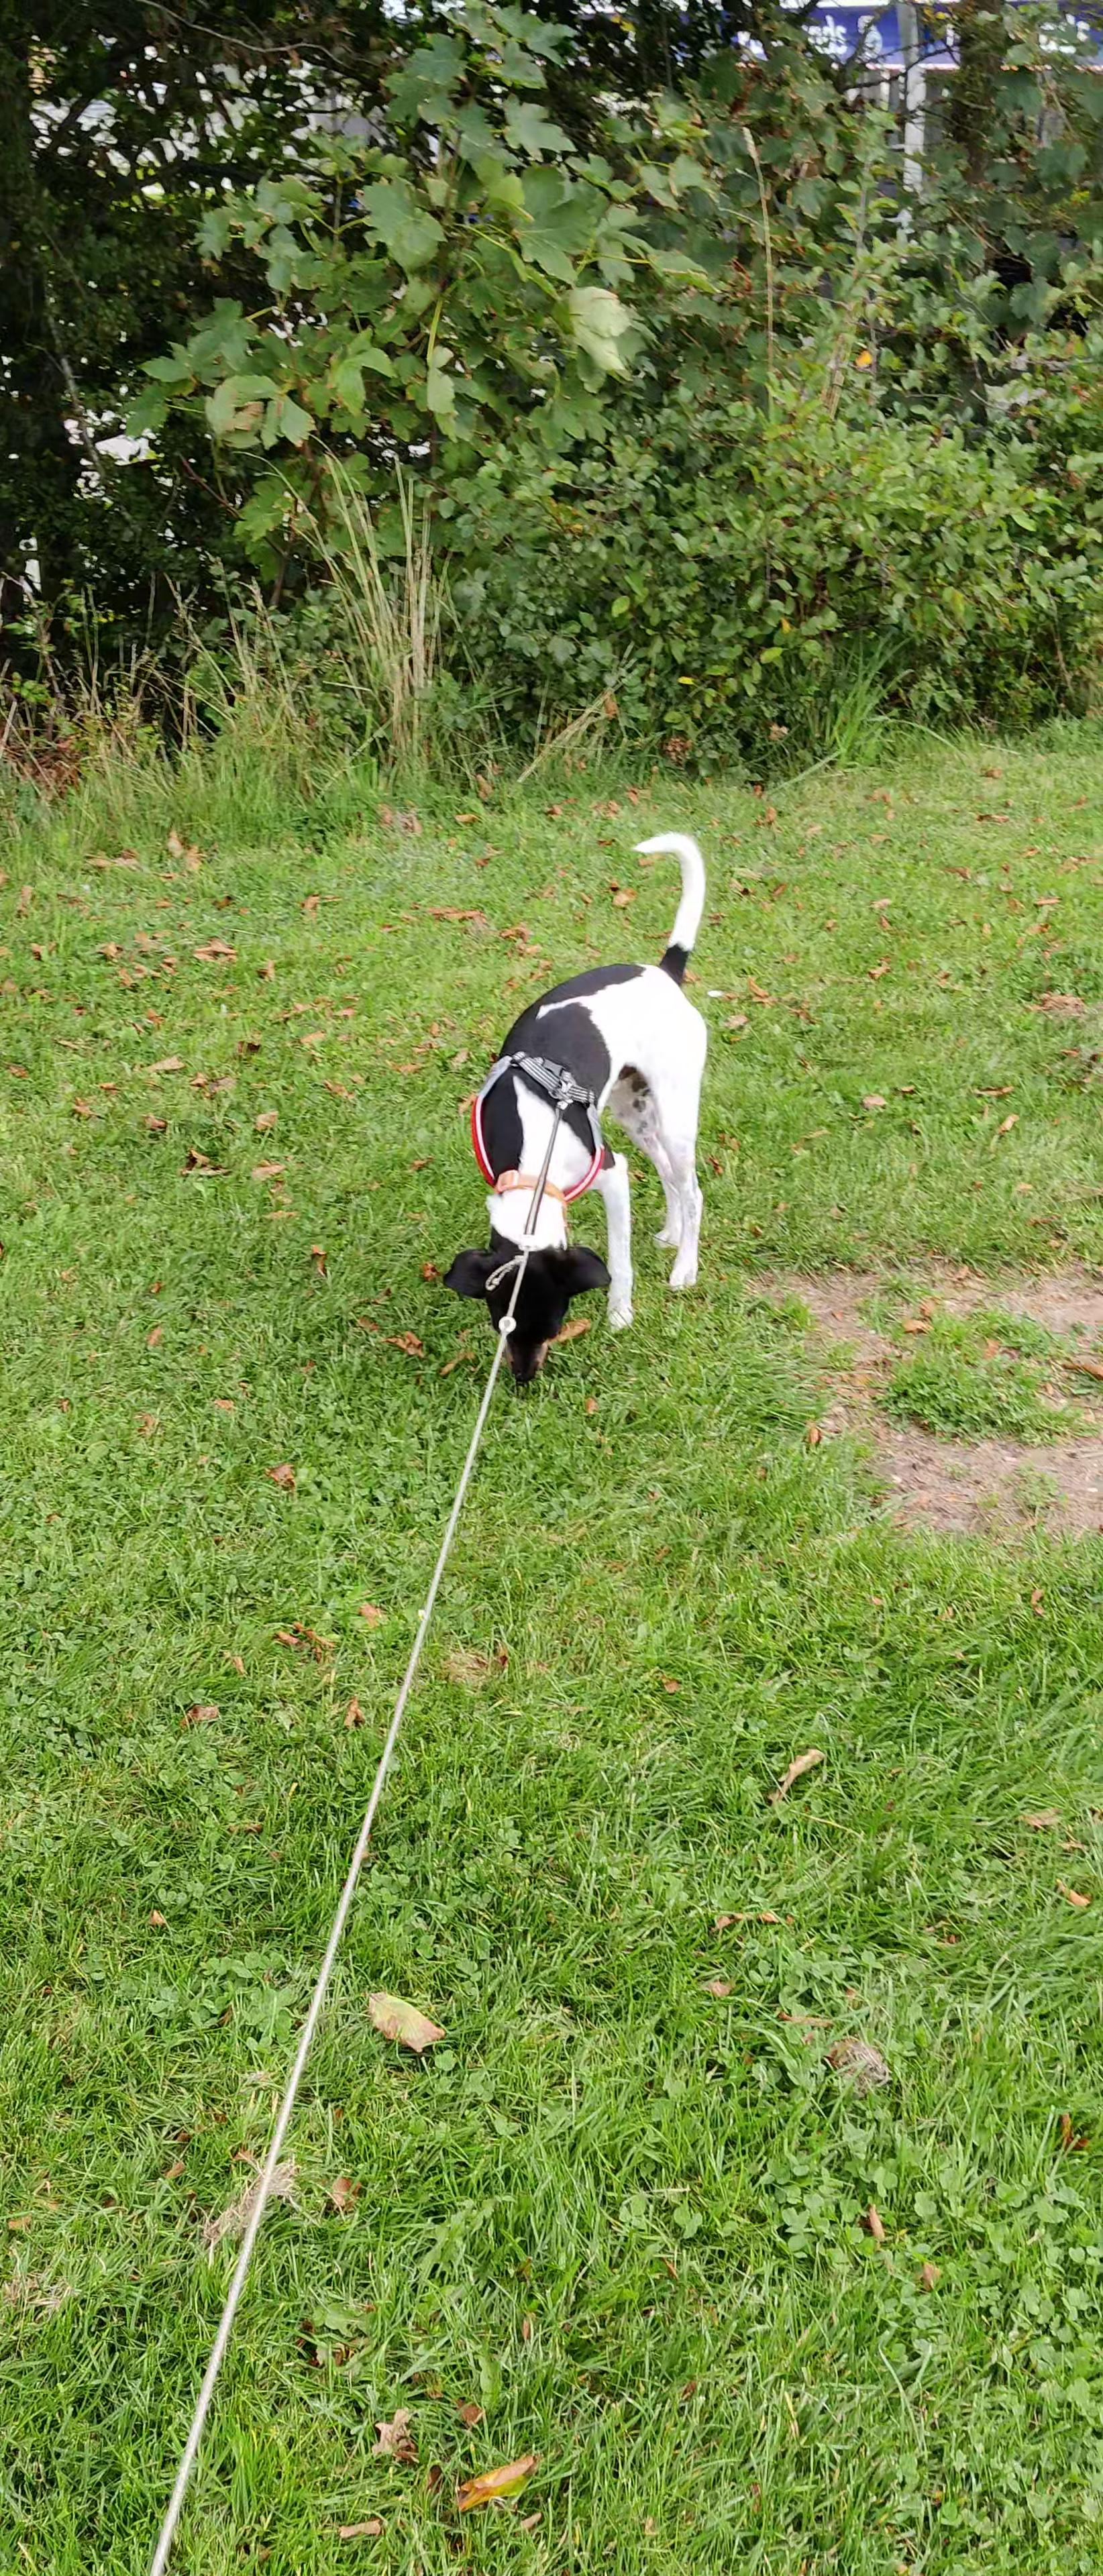Dog: (413, 812, 771, 1401)
